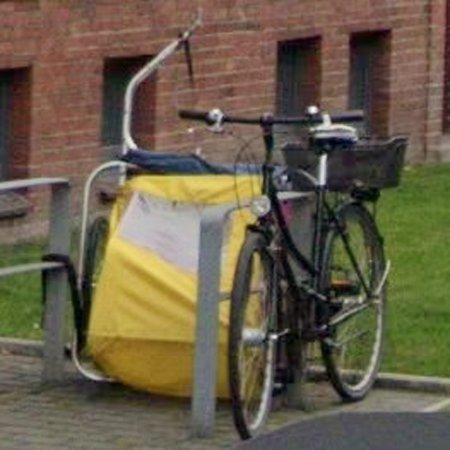bicycles: (178, 106, 408, 440)
